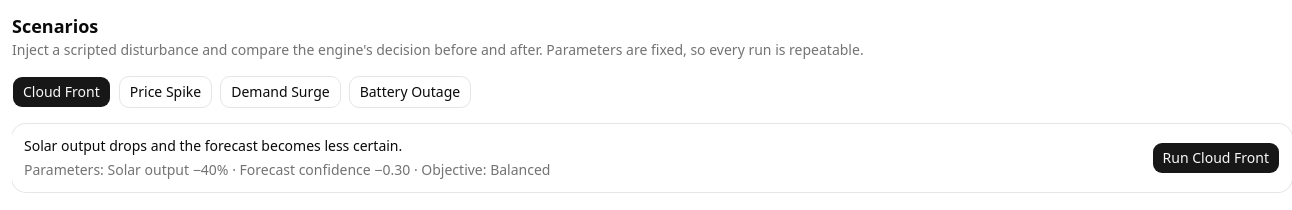
ScenarioPanel › previews the parameters of the selected scenario
The width and height of the screenshot is (1292, 210).
expect the text with test id "scenario-preview" shows "Solar output −40%": met, box 108,160 -> 410,179
Click the button "Price Spike" at (166, 92), box 119,76 -> 212,108
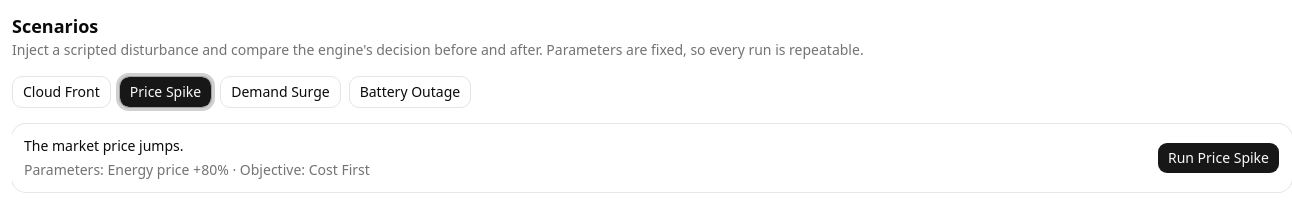
expect the text with test id "scenario-preview" shows "price +80%": met, box 108,160 -> 229,179
